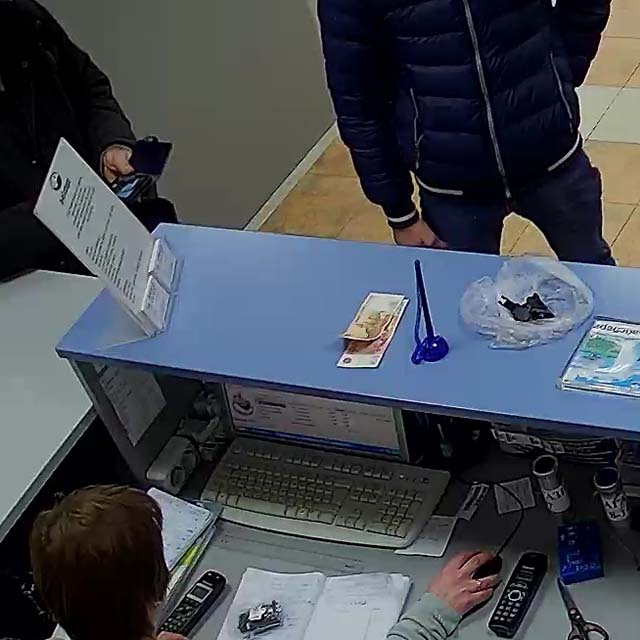banknotes: (338, 292, 412, 371)
